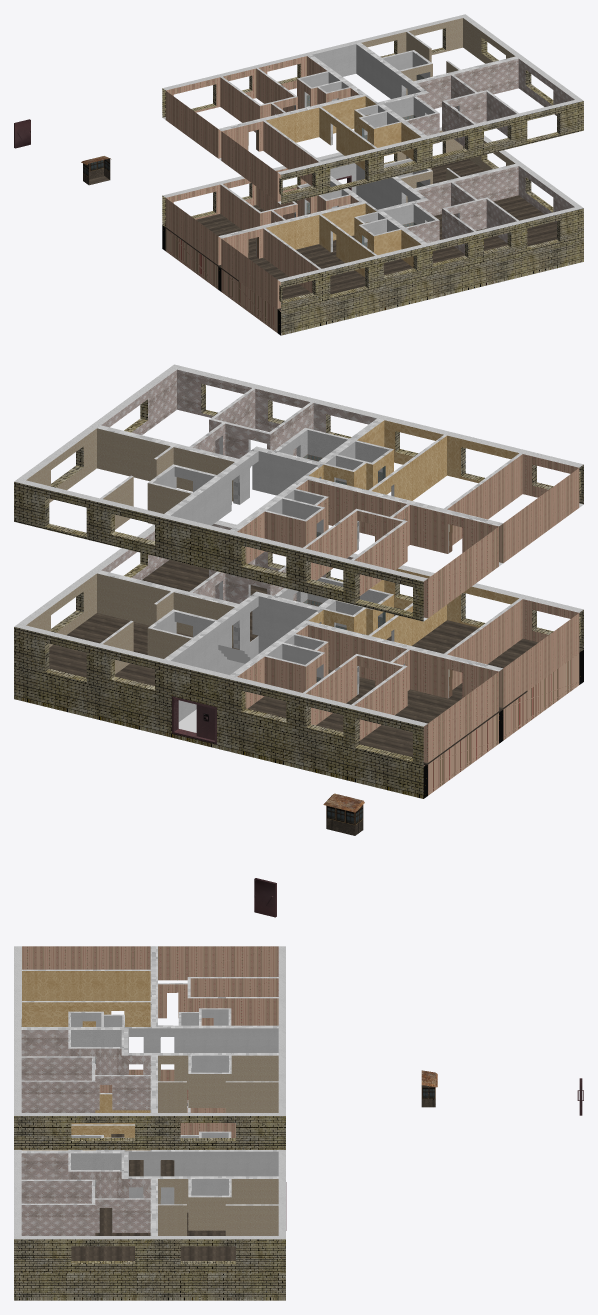
The model's file is dveri_v_podezd.glb.
3 renders of one model, top to bottom at view 1: azimuth 30°, elevation 25°; view 2: azimuth 150°, elevation 25°; view 3: azimuth 270°, elevation 25°, orthographic. The views are drawn at different scales.
Visible parts, largest first — view 1: Плоскость.003, Плоскость.001, Куб.001, Плоскость.002, Куб; view 2: Плоскость.003, Плоскость.001, Куб.001, Плоскость.002, Куб; view 3: Плоскость.001, Плоскость.003, Куб.001, Плоскость.002.
Boxes of the visible parts, left/top/right/bottom form: Плоскость.003: left=162, top=127, right=583, bottom=335; Плоскость.001: left=162, top=14, right=583, bottom=204; Куб.001: left=164, top=158, right=556, bottom=310; Плоскость.002: left=81, top=156, right=111, bottom=185; Куб: left=14, top=119, right=30, bottom=148; Плоскость.003: left=14, top=520, right=583, bottom=798; Плоскость.001: left=14, top=364, right=583, bottom=621; Куб.001: left=49, top=559, right=580, bottom=765; Плоскость.002: left=323, top=793, right=364, bottom=835; Куб: left=254, top=878, right=276, bottom=917; Плоскость.001: left=14, top=946, right=285, bottom=1149; Плоскость.003: left=14, top=1069, right=286, bottom=1300; Куб.001: left=71, top=1103, right=235, bottom=1260; Плоскость.002: left=421, top=1070, right=437, bottom=1107.
Bounding box in the file's own units: 52.46 × 25 × 69.95.
Materials: 21 (21 with a texture image).
